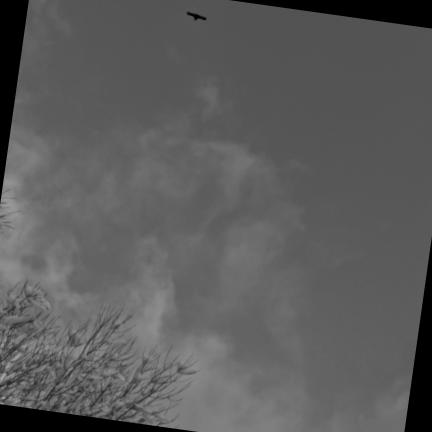Shahed: (187, 12, 206, 20)
